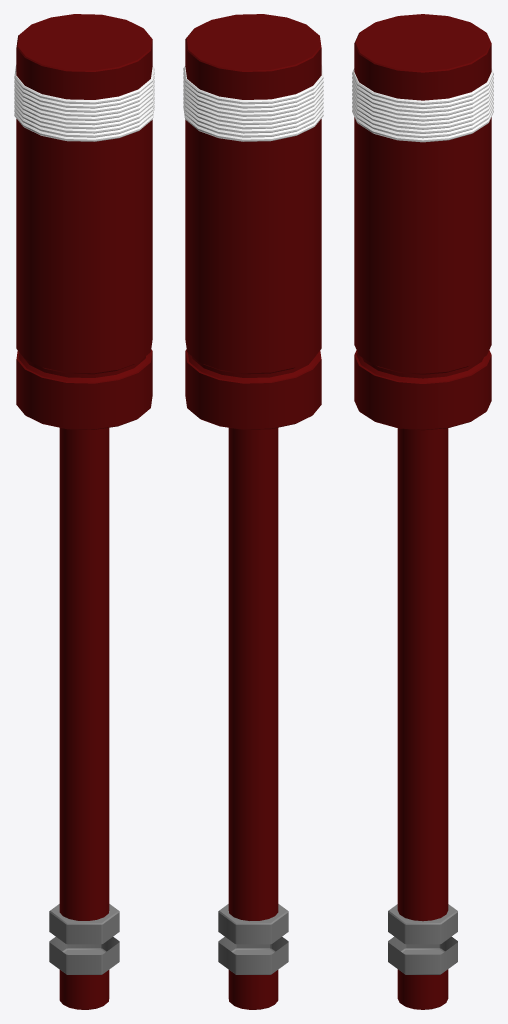
File: BR03_Light.FBX
3 views of the same model, side by side, from view 1: azimuth 30°, elevation 25°; view 2: azimuth 150°, elevation 25°; view 3: azimuth 270°, elevation 25° (orthographic).
Parts seen in each view (by area): view 1: Light; view 2: Light; view 3: Light.
Part boxes in pixels (x1=…): Light: x1=14, y1=14, x2=154, y2=1009; Light: x1=183, y1=14, x2=323, y2=1009; Light: x1=352, y1=14, x2=493, y2=1009.
Bounding box in the file's own units: 61.86 × 461 × 61.86.
